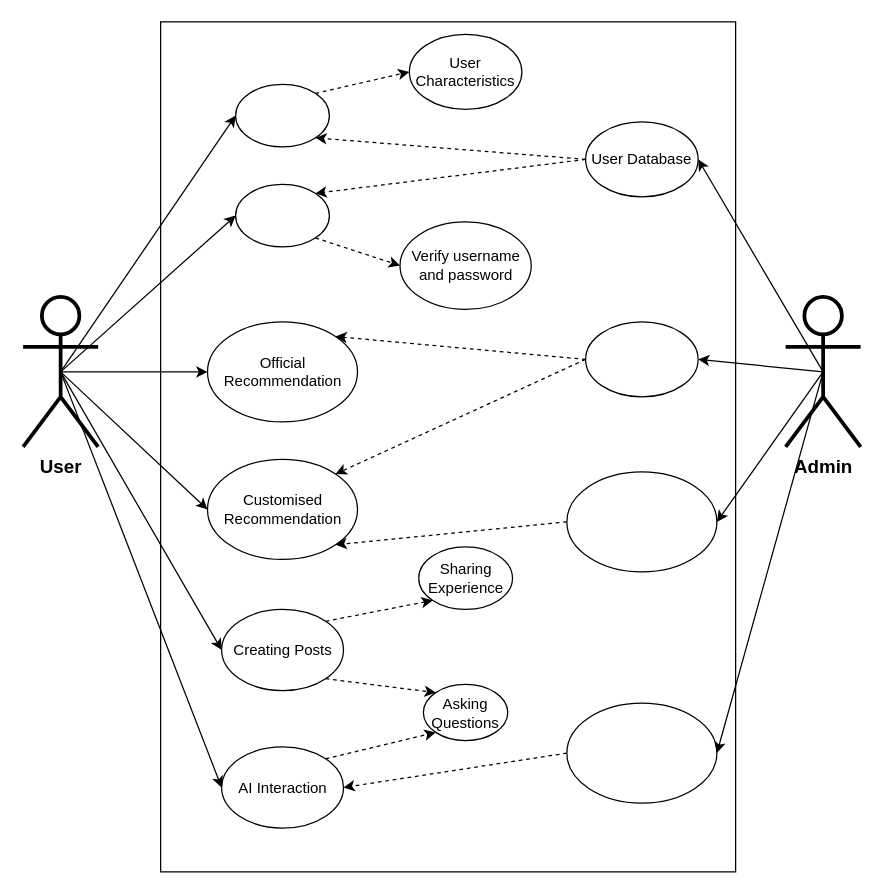
Image size: 884x894. Some labels were removed from this diagram. The shapes that lost their labels are listed below. From the top down, each one's centre as x and y in pixels, then its label:
At point 281,115: "Sign Up".
At point 281,215: "Log In".
At point 641,359: "Item Database".
At point 641,521: "Recommendation Model".
At point 641,752: "LLM Model".
